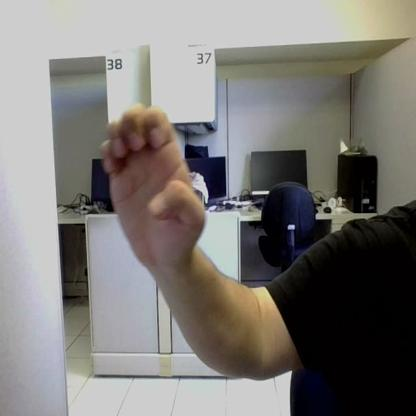E: (102, 105, 205, 257)
